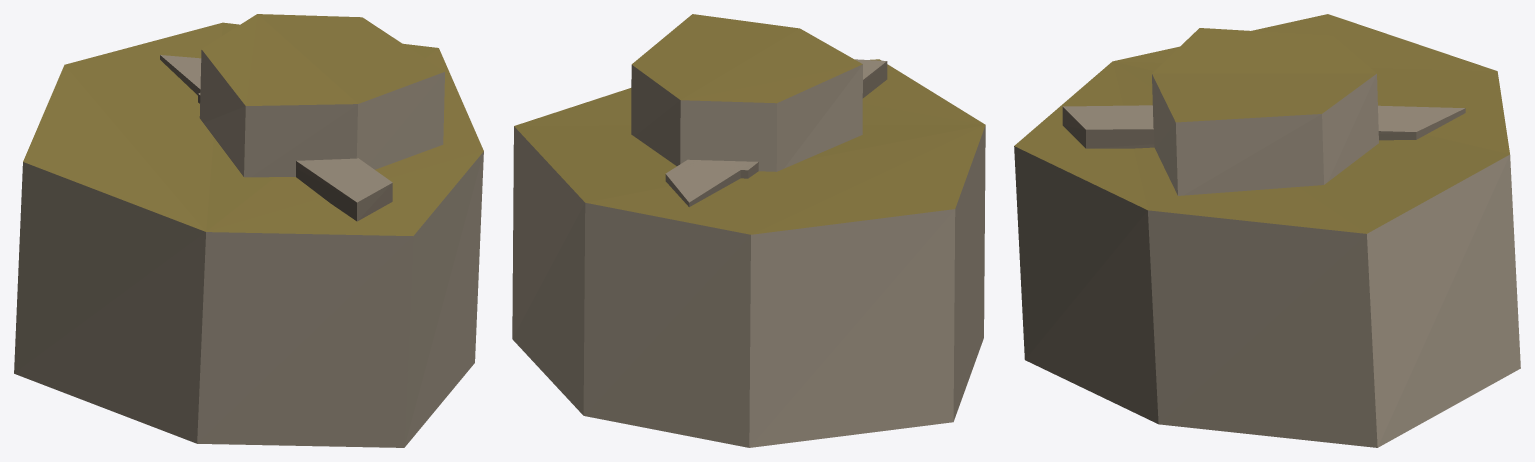
The model's file is rock.ledge__buried__winter.glb.
The picture shows the model from 3 angles, left to right: view 1: azimuth 30°, elevation 25°; view 2: azimuth 150°, elevation 25°; view 3: azimuth 270°, elevation 25°; orthographic projection. The views are drawn at different scales.
Visible parts, largest first — view 1: rock.ledge; view 2: rock.ledge; view 3: rock.ledge.
Part boxes in pixels (bbox=[...]): rock.ledge: bbox=[14, 14, 483, 447]; rock.ledge: bbox=[512, 14, 985, 447]; rock.ledge: bbox=[1014, 14, 1520, 447].
Bounding box in the file's own units: 2.98 × 1.94 × 2.97.
